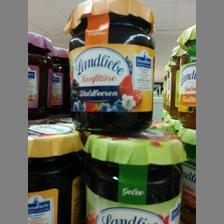Marmelade: (67, 0, 155, 134), (85, 133, 183, 223), (26, 122, 84, 223)
